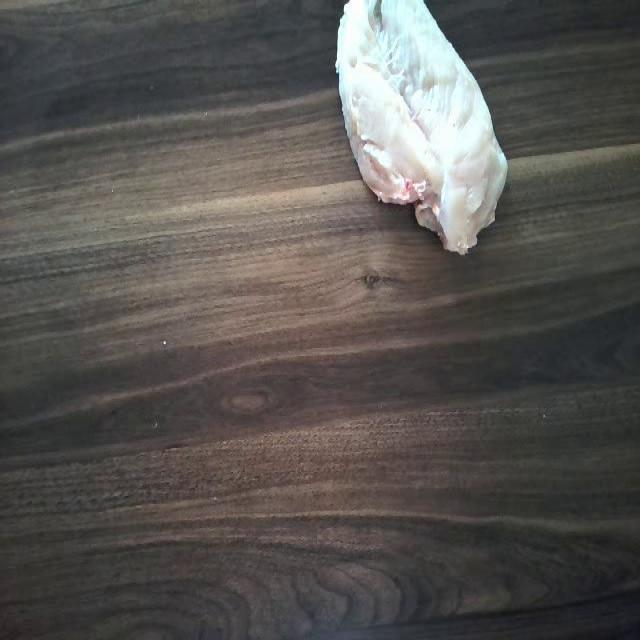breast: (333, 0, 517, 251)
